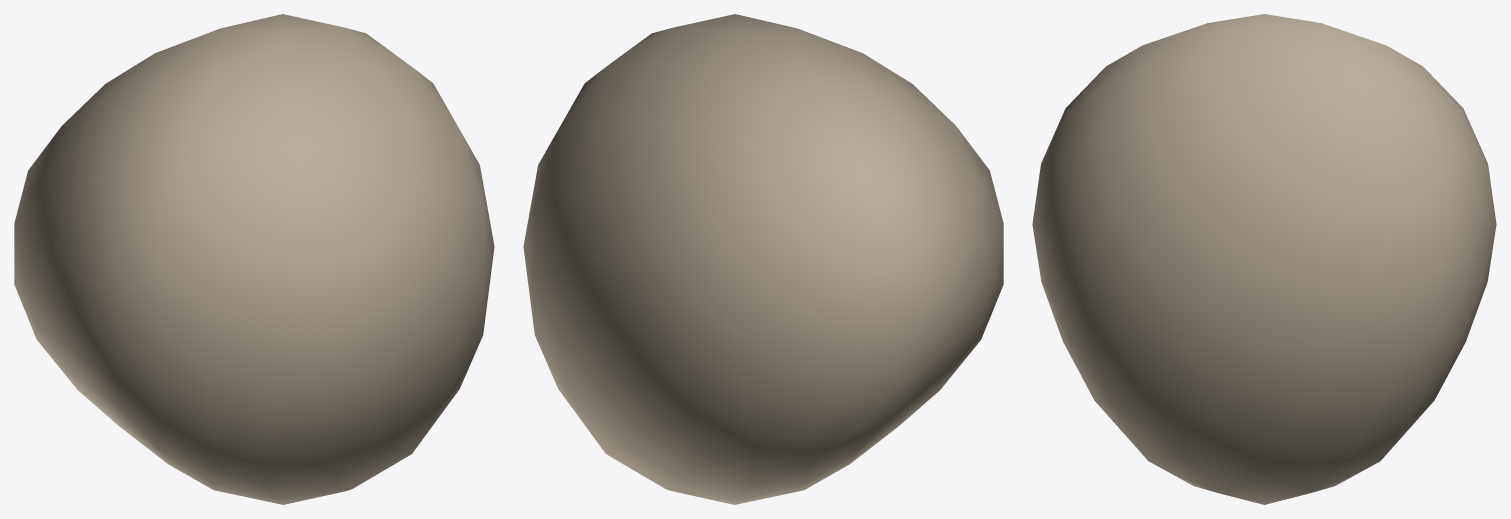
File: fishing_net.glb
The picture shows the model from 3 angles, left to right: view 1: azimuth 30°, elevation 25°; view 2: azimuth 150°, elevation 25°; view 3: azimuth 270°, elevation 25°; orthographic projection.
Parts seen in each view (by area): view 1: geometry_0; view 2: geometry_0; view 3: geometry_0.
Boxes of the visible parts, bbox=[...] form: geometry_0: bbox=[14, 14, 494, 504]; geometry_0: bbox=[523, 14, 1003, 504]; geometry_0: bbox=[1032, 14, 1496, 504].
Bounding box in the file's own units: 0.44 × 0.4766 × 0.44.
